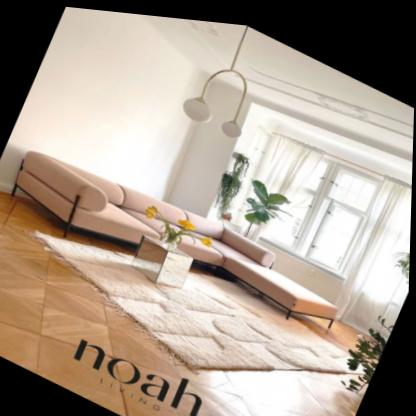Carpet: (27, 230, 361, 370)
Ceramic floor: (0, 191, 365, 416)
